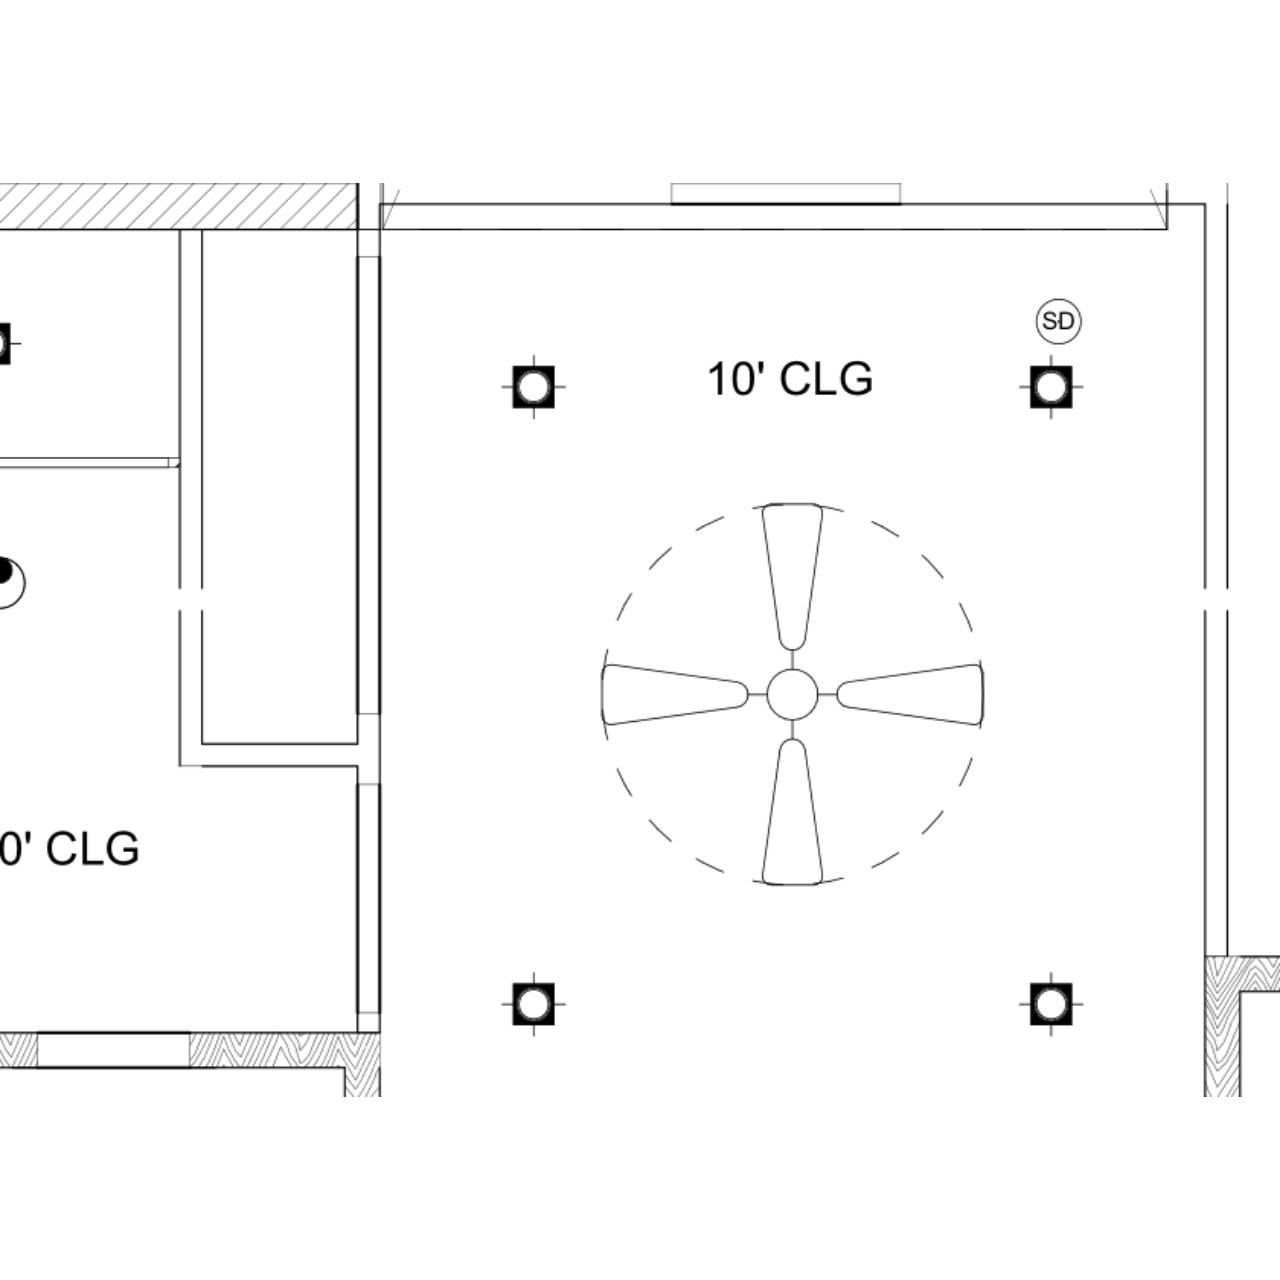ress_can_light: (1019, 353, 1087, 418), (502, 971, 566, 1037), (1020, 972, 1084, 1036), (503, 354, 565, 418), (0, 312, 21, 376)
